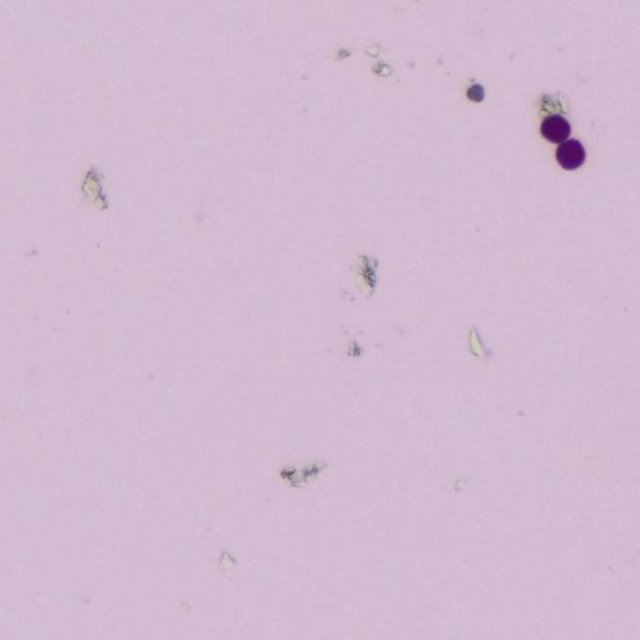non_viable: (467, 83, 484, 101)
viable: (556, 139, 584, 169), (540, 115, 569, 143)
